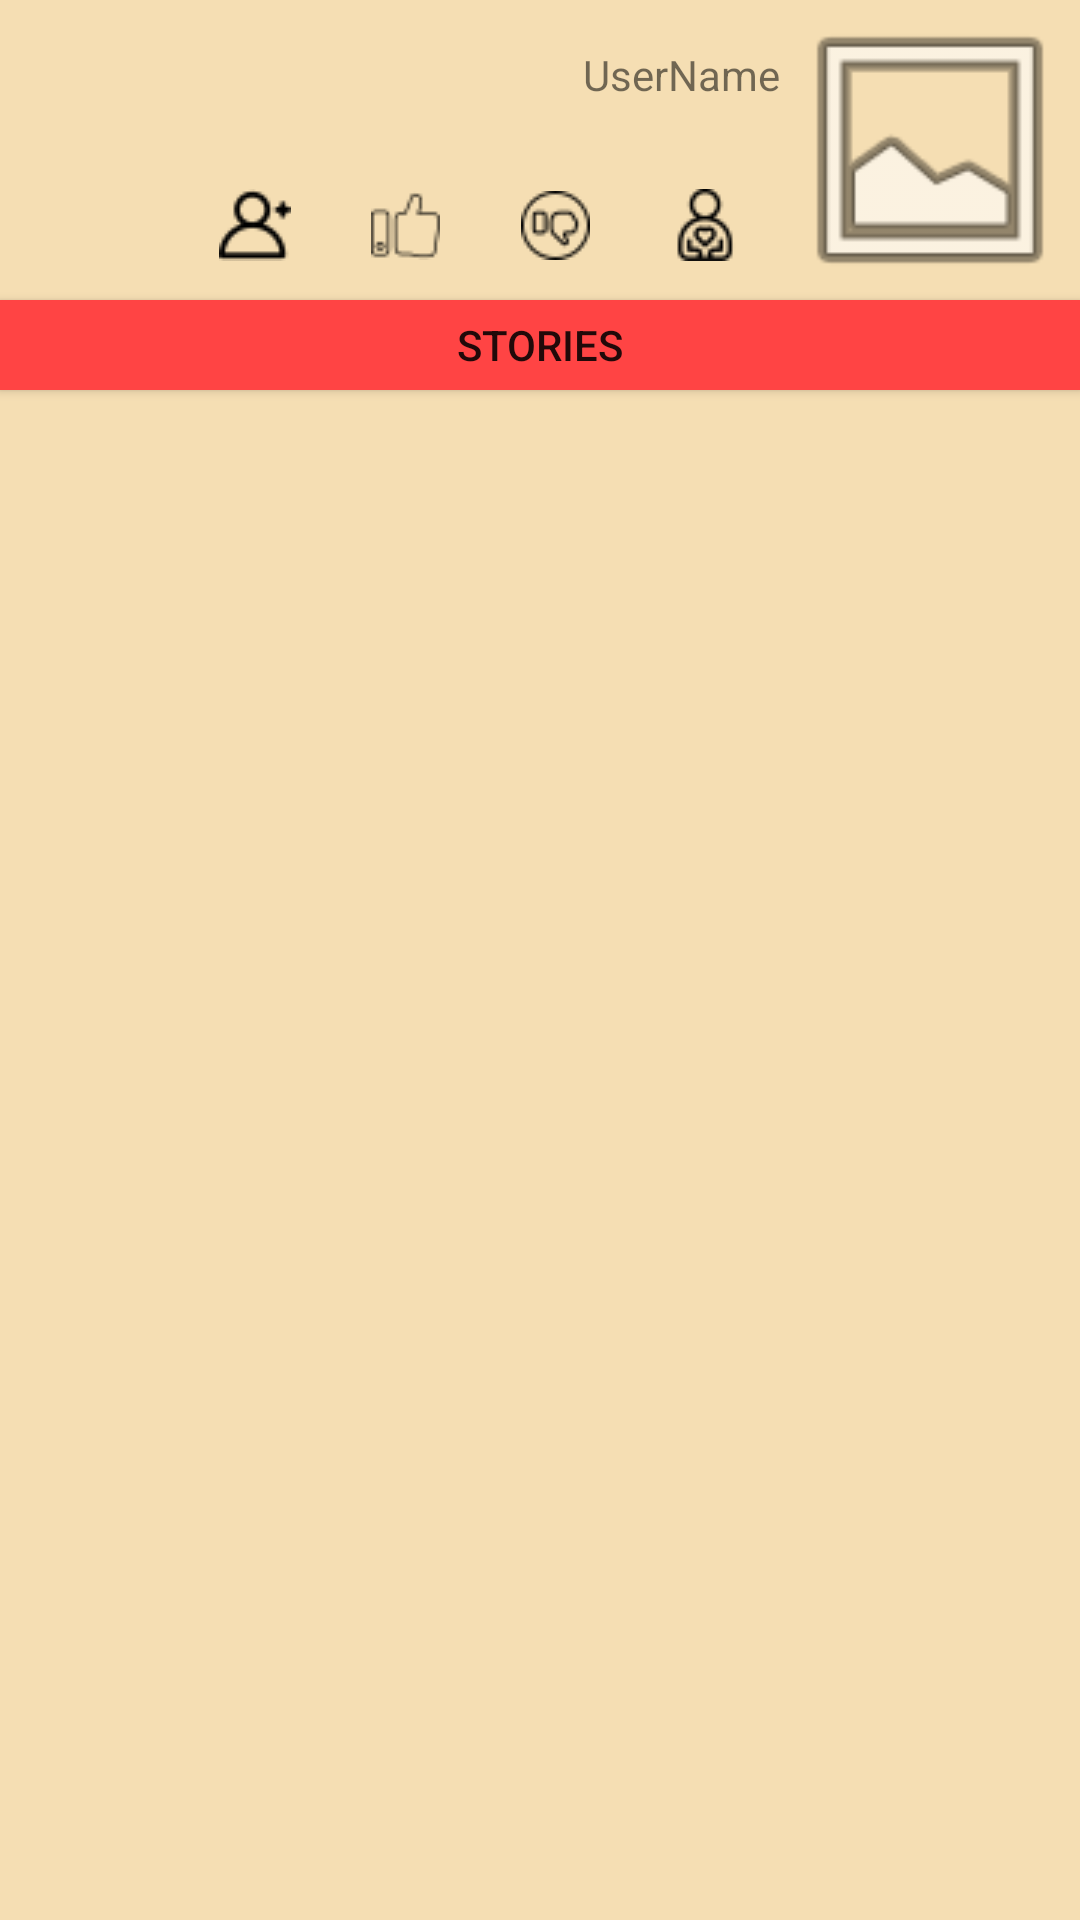

Where icons sit on this 1080w x 1920h app screen, as (x1, y1, x2, y2):
dislike: (521, 191, 590, 260)
follower: (219, 191, 291, 261)
gallery: (817, 37, 1043, 263)
like thumb: (371, 193, 440, 258)
loyalty: (677, 189, 733, 261)
